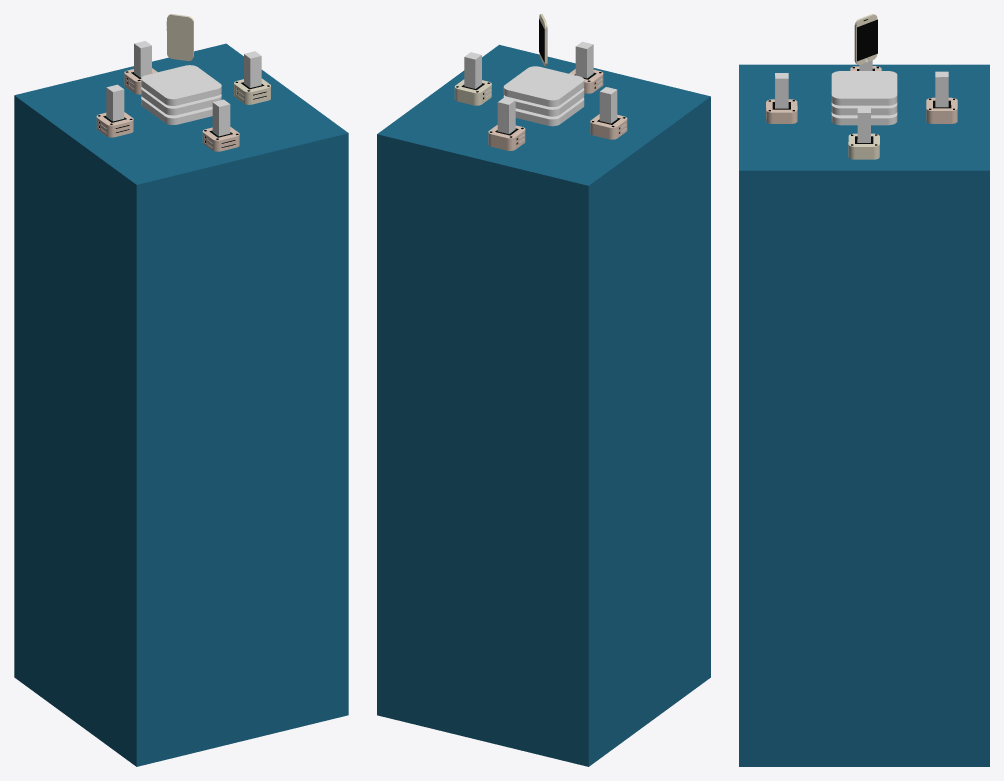
File: pclub.fbx
3 renders of one model, left to right at view 1: azimuth 30°, elevation 25°; view 2: azimuth 150°, elevation 25°; view 3: azimuth 270°, elevation 25°, orthographic. The views are drawn at different scales.
Parts seen in each view (by area): view 1: Cube.043, Cube.042, Cube.003, Cube.041, Cube.040, Cube, Cube.021, Cube.030, Cube.029, Cube.038, Cube.011, Cube.012; view 2: Cube.043, Cube.042, Cube.041, Cube.040, Cube, Cube.020, Cube.021, Cube.012, Cube.029, Cube.030, Cube.011; view 3: Cube.043, Cube.042, Plane.001, Cube, Cube.020, Cube.041, Cube.038, Cube.040, Cube.012, Cube.011, Cube.030.
Part boxes in pixels (x1,y1,x2,y2): Cube.043: [14, 43, 348, 766]; Cube.042: [141, 65, 221, 105]; Cube.003: [167, 14, 193, 61]; Cube.041: [141, 87, 221, 115]; Cube.040: [141, 96, 212, 124]; Cube: [234, 78, 270, 104]; Cube.021: [96, 112, 133, 137]; Cube.030: [212, 99, 230, 136]; Cube.029: [106, 84, 124, 121]; Cube.038: [202, 127, 239, 151]; Cube.011: [244, 51, 261, 87]; Cube.012: [134, 41, 151, 77]; Cube.043: [377, 44, 710, 766]; Cube.042: [503, 66, 584, 106]; Cube.041: [503, 88, 584, 116]; Cube.040: [515, 97, 584, 126]; Cube: [454, 79, 491, 105]; Cube.020: [488, 125, 525, 150]; Cube.021: [590, 114, 627, 139]; Cube.012: [497, 97, 515, 133]; Cube.029: [599, 87, 617, 123]; Cube.030: [575, 41, 593, 78]; Cube.011: [464, 52, 481, 88]; Cube.043: [739, 64, 989, 766]; Cube.042: [831, 71, 897, 105]; Plane.001: [857, 19, 877, 61]; Cube: [848, 133, 879, 159]; Cube.020: [926, 97, 957, 123]; Cube.041: [831, 102, 897, 115]; Cube.038: [766, 99, 797, 123]; Cube.040: [831, 112, 897, 125]; Cube.012: [935, 71, 948, 107]; Cube.011: [857, 107, 870, 142]; Cube.030: [775, 73, 788, 108].
Size of the model in its own units: 3526 by 10806 by 3526.
